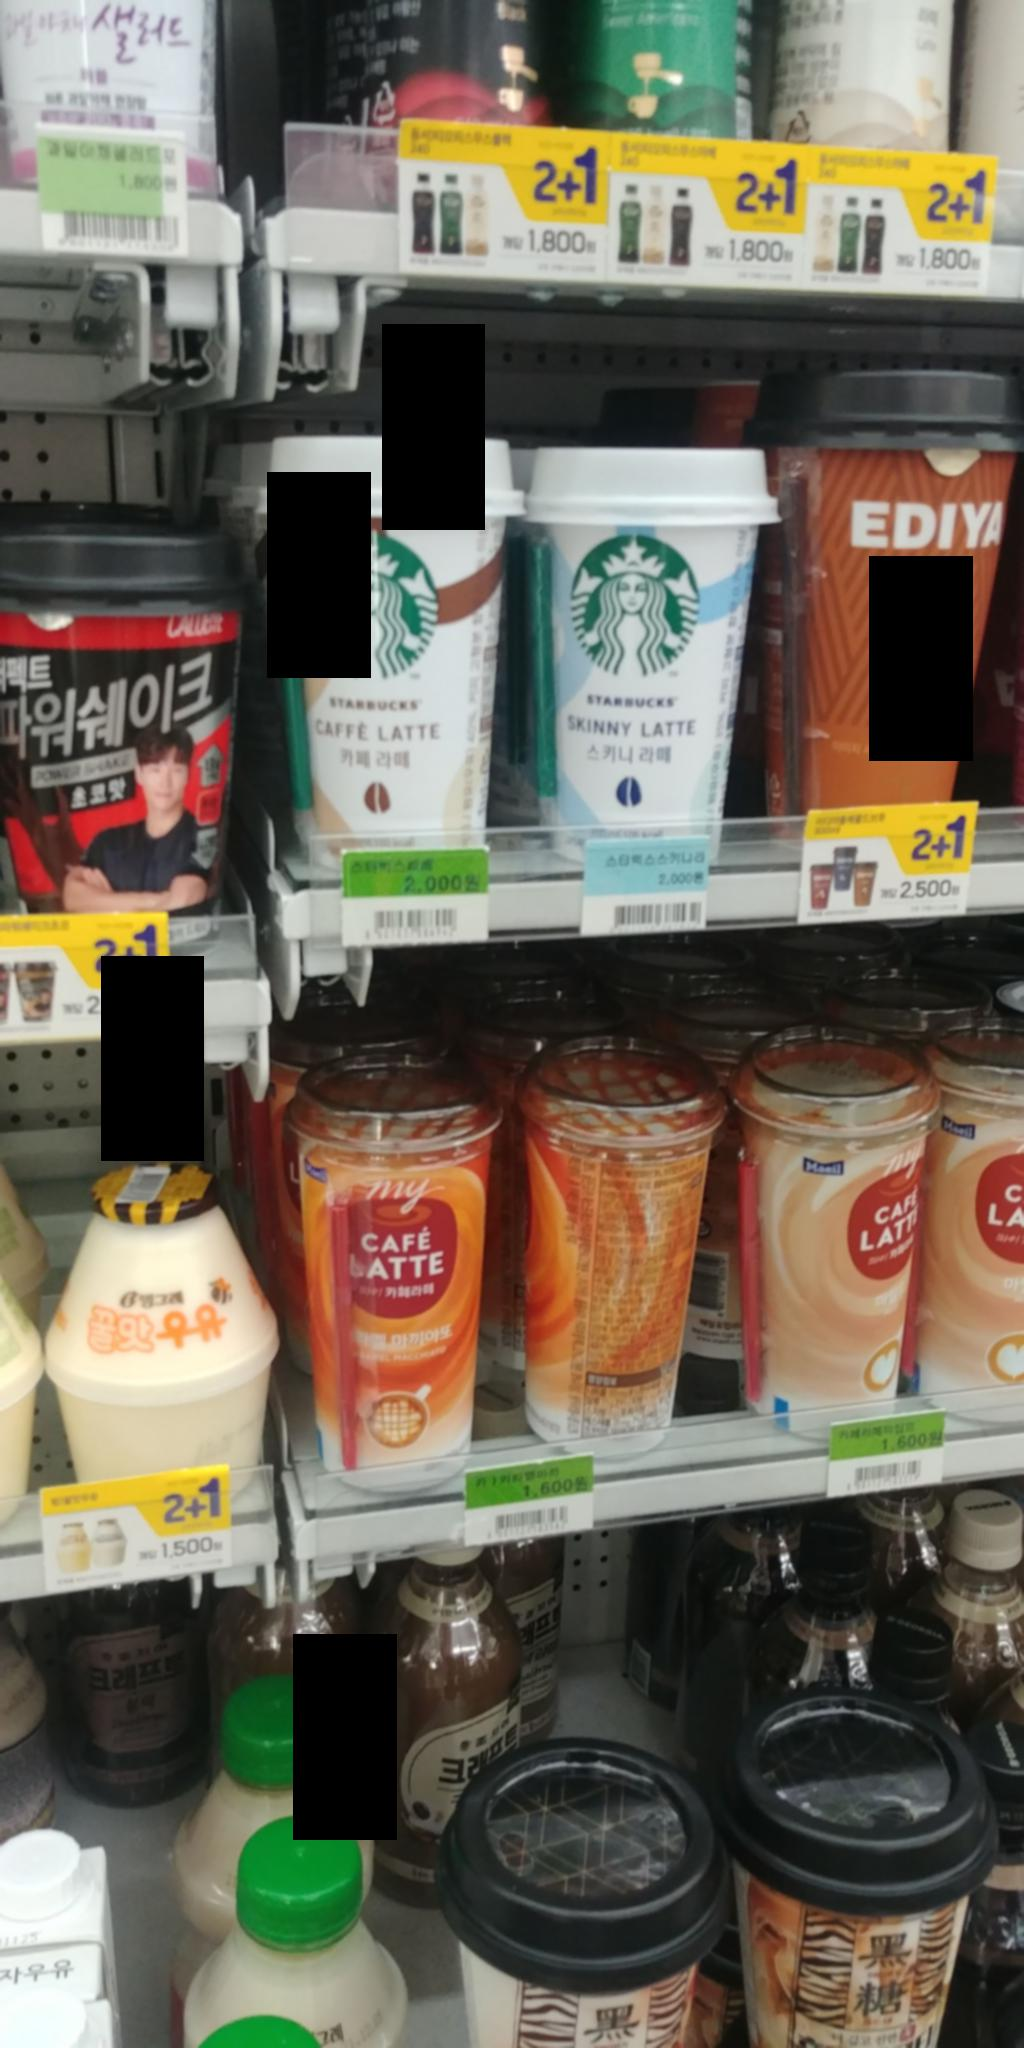starbucks_cafelatte: (256, 415, 533, 876)
